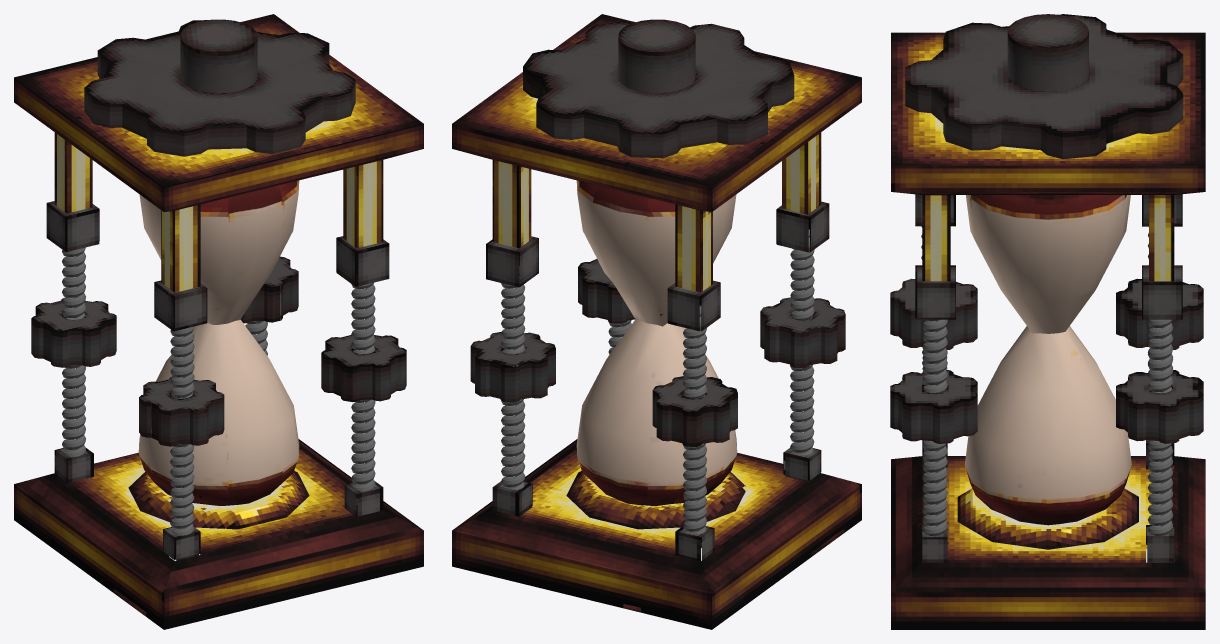
Rendered from modelHourglass.fbx.
3 views of the same model, side by side, from view 1: azimuth 30°, elevation 25°; view 2: azimuth 150°, elevation 25°; view 3: azimuth 270°, elevation 25° (orthographic). The views are drawn at different scales.
Visible parts, largest first — view 1: body, coils; view 2: body, coils; view 3: body, coils.
Boxes of the visible parts, x1,y1,x2,y2 form: body: (14, 14, 423, 629); coils: (62, 247, 375, 535); body: (452, 14, 861, 629); coils: (501, 229, 814, 534); body: (890, 14, 1205, 629); coils: (921, 226, 1173, 536).
Size of the model in its own units: 7.73 by 14.43 by 7.75.
Materials: 2 (1 with a texture image).
